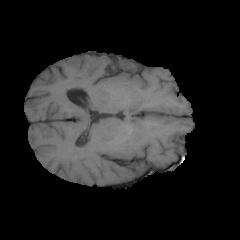glioma: (70, 56, 140, 117)
